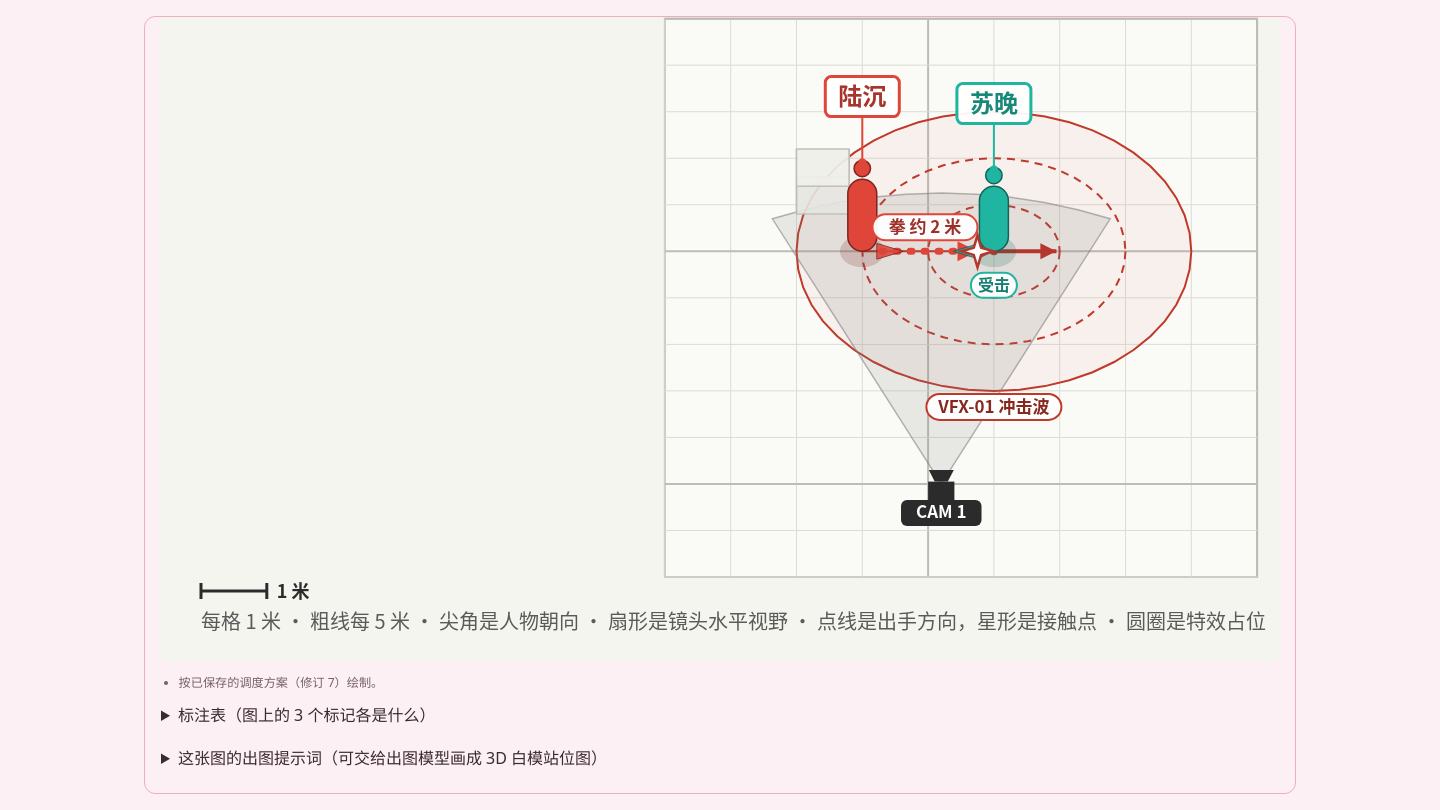
Test: BlockingDiagramDialog › draws a fight beat with its strike, contact star, effect ring, ruler and act labels, and lists them in the legend
Later steps or results of the test are not shown.
(page scrolled)
Step 1. Click the heading "标注表（图上的 3 个标记各是什么）" → (307, 715), box [178,704,435,726]
(page scrolled)
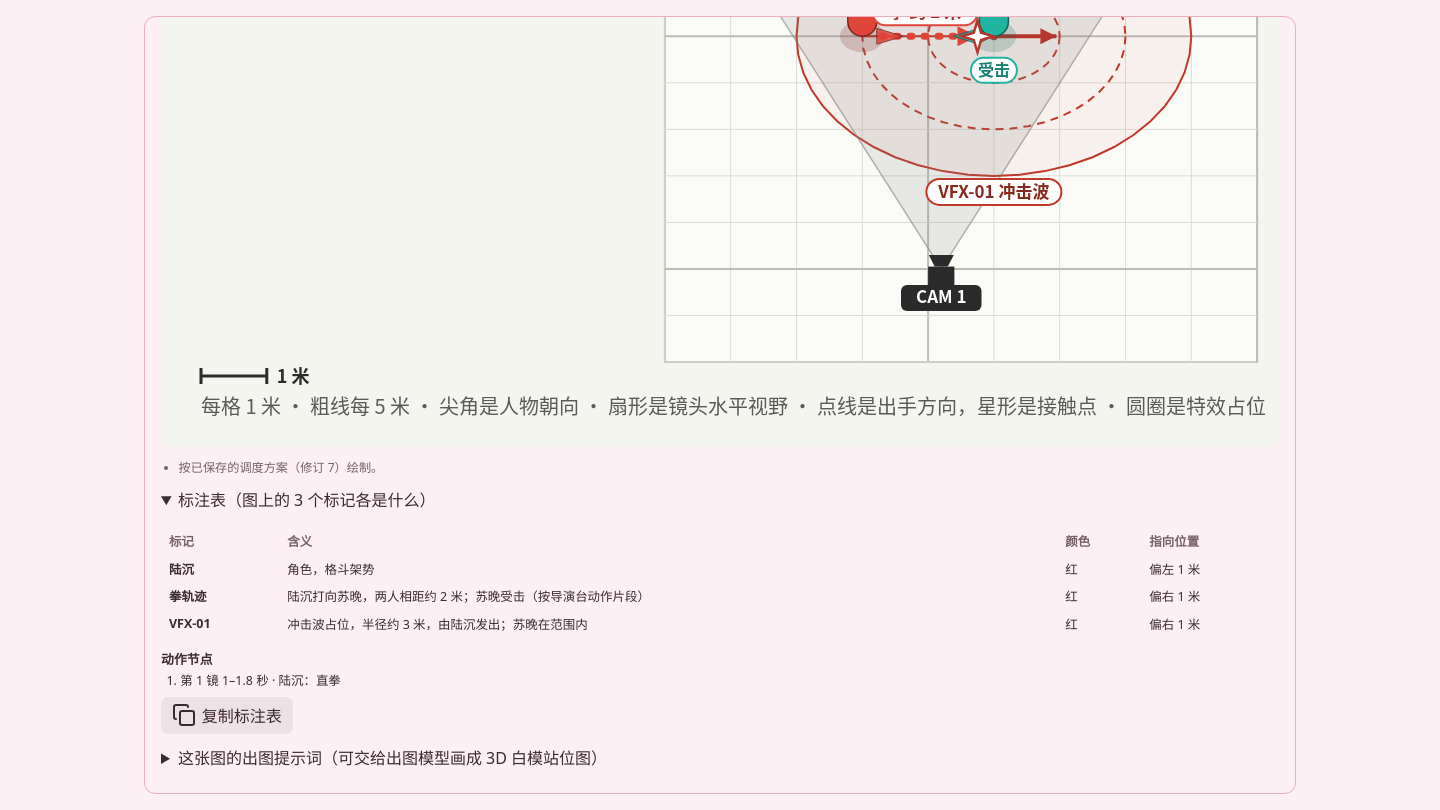
Expected: the column heading "拳轨迹" is shown, [161,582,279,610]
Expected: the list item "第 1 镜 1–1.8 秒 · 陆沉：直拳" is shown, [180,672,341,689]
